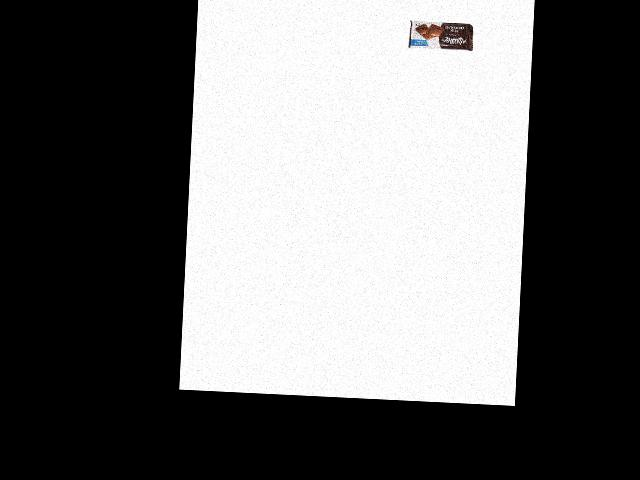chocolate: (407, 19, 473, 52)
